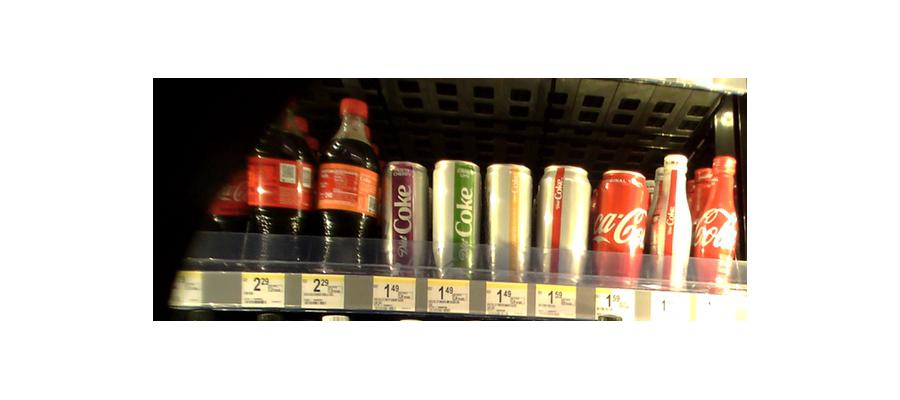bottle: (246, 93, 314, 269), (314, 96, 378, 275), (189, 125, 245, 269), (537, 164, 593, 284), (595, 169, 650, 285), (431, 159, 484, 278), (696, 151, 740, 291), (382, 157, 431, 278), (652, 151, 693, 293), (487, 161, 535, 281)
